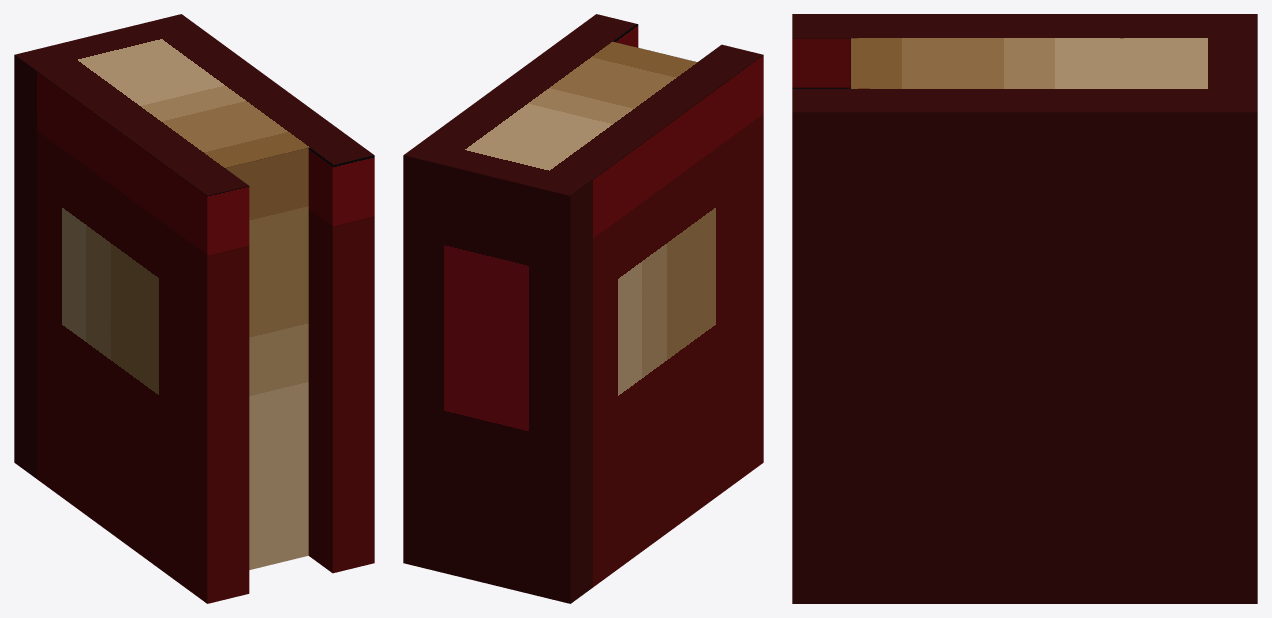
The model's file is book_0x282_20.glb.
3 renders of one model, left to right at view 1: azimuth 30°, elevation 25°; view 2: azimuth 150°, elevation 25°; view 3: azimuth 270°, elevation 25°, orthographic. The views are drawn at different scales.
Parts seen in each view (by area): view 1: Cube; view 2: Cube; view 3: Cube.
Boxes of the visible parts, x1,y1,x2,y2 form: Cube: (14,14,374,603); Cube: (403,14,763,603); Cube: (792,14,1257,603).
Size of the model in its own units: 0.25 by 0.5833 by 0.5.
Materials: 1 (1 with a texture image).
